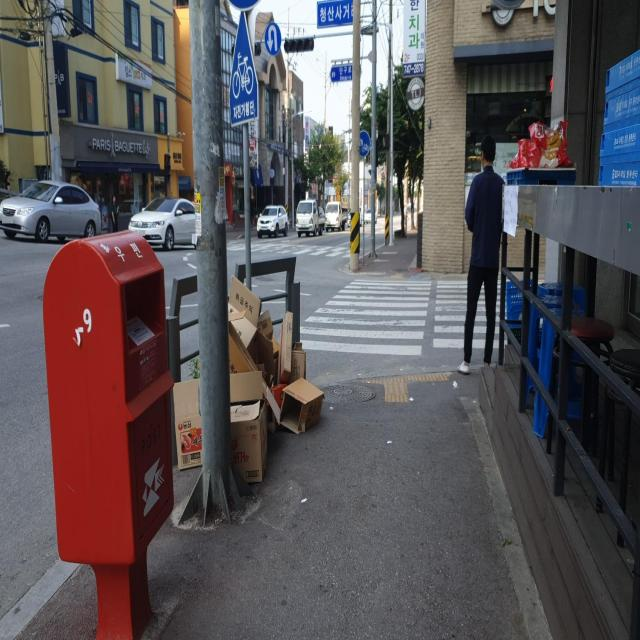횡단보도: (298, 278, 511, 358), (220, 234, 360, 260)
